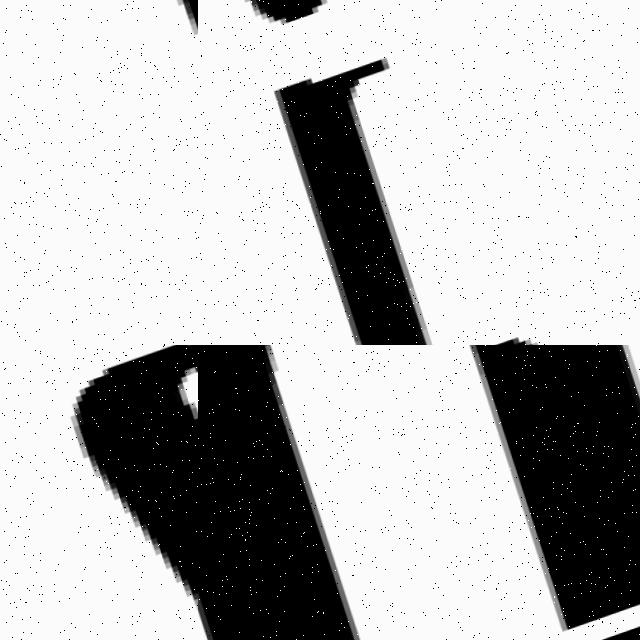A: (46, 345, 198, 640)
I: (67, 0, 198, 345)
J: (211, 0, 569, 345)
N: (198, 345, 640, 640)
